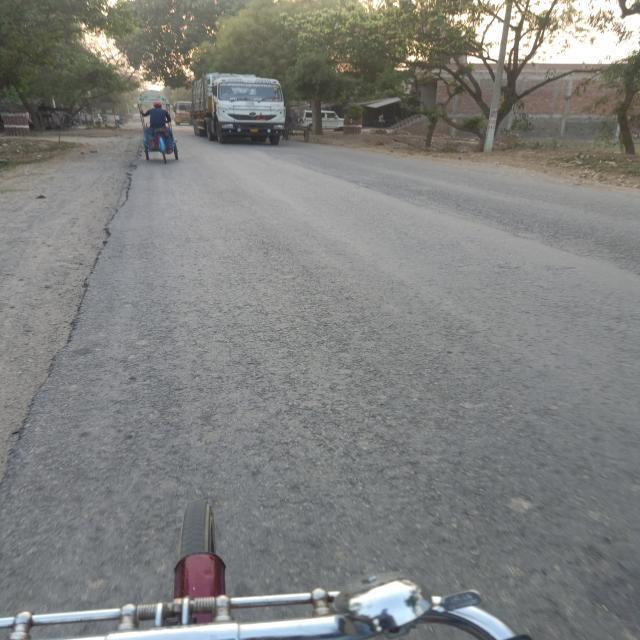truck_front: (187, 70, 291, 148)
